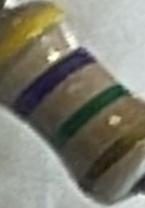Blue: (11, 46, 95, 117)
Green: (47, 82, 132, 153)
Side-Gold: (76, 116, 145, 196)
Yellow: (1, 4, 68, 75)
